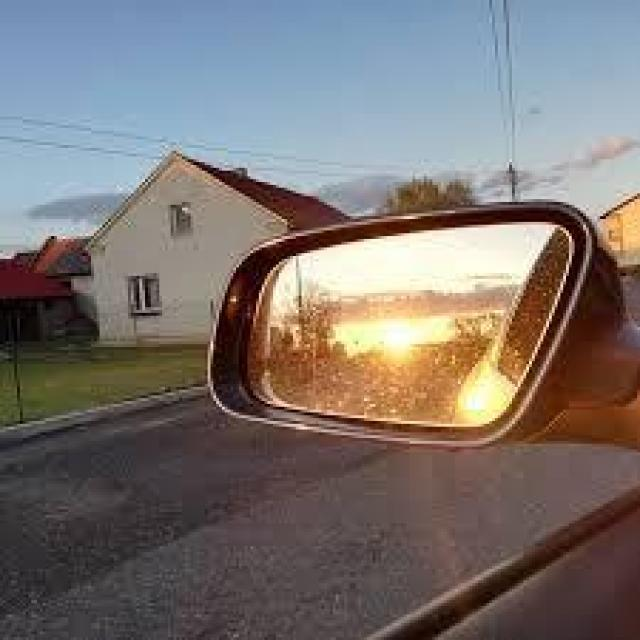other: (358, 312, 449, 360), (456, 366, 498, 424)
